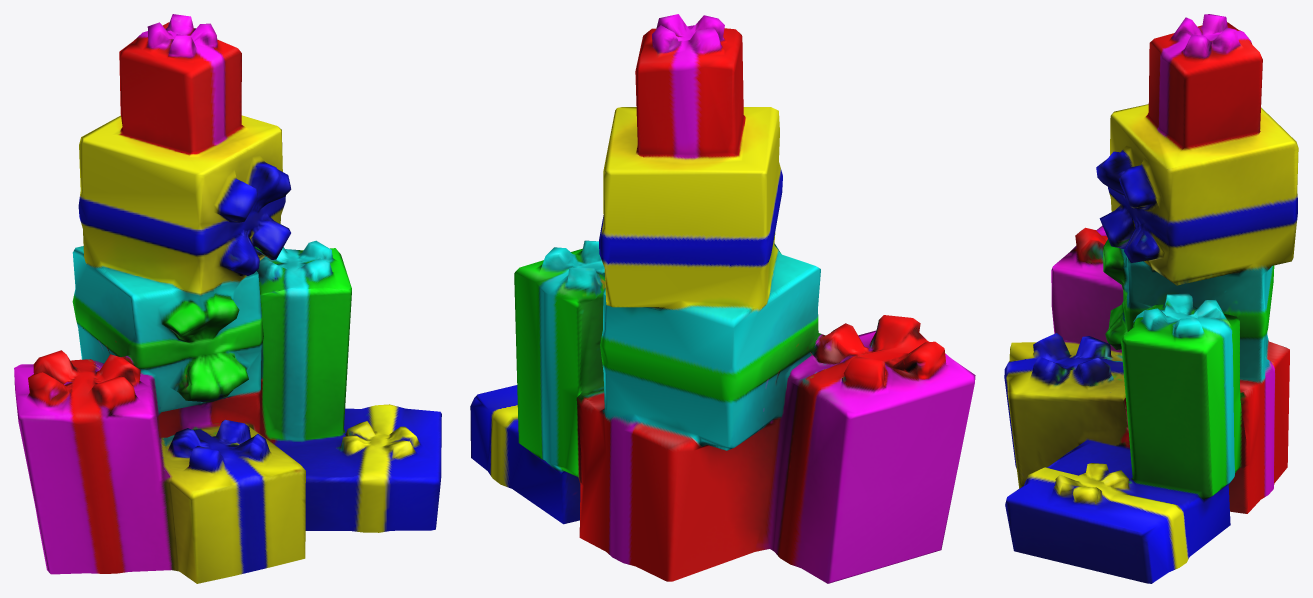
The model's file is gifts_1.glb.
3 views of the same model, side by side, from view 1: azimuth 30°, elevation 25°; view 2: azimuth 150°, elevation 25°; view 3: azimuth 270°, elevation 25° (orthographic). The views are drawn at different scales.
Visible parts, largest first — view 1: giftGeo; view 2: giftGeo; view 3: giftGeo.
Boxes of the visible parts, bbox=[...] form: giftGeo: bbox=[14, 14, 441, 583]; giftGeo: bbox=[470, 14, 975, 583]; giftGeo: bbox=[1004, 14, 1298, 583].
Size of the model in its own units: 15.03 by 15.4 by 9.04.
Materials: 1 (1 with a texture image).
